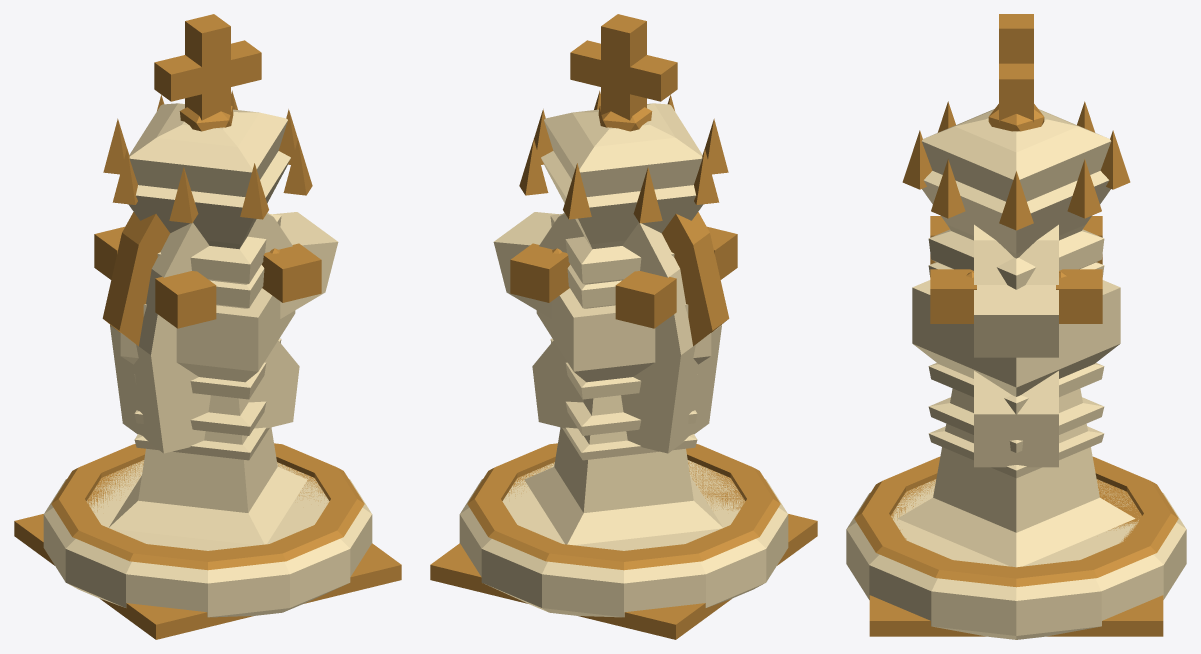
Rendered from sandstone.glb.
3 renders of one model, left to right at view 1: azimuth 30°, elevation 25°; view 2: azimuth 150°, elevation 25°; view 3: azimuth 270°, elevation 25°, orthographic. The views are drawn at different scales.
Visible parts, largest first — view 1: disc, K, N, R, B, Q, P; view 2: disc, K, N, R, B, Q, P; view 3: disc, K, N, R, Q, B, P.
Part boxes in pixels (x1,y1,x2,y2): disc: (43,443,372,617); K: (129,14,287,512); N: (102,212,338,460); R: (94,226,321,399); B: (14,246,401,639); Q: (103,90,312,308); P: (134,401,266,435); disc: (459,443,788,617); K: (544,14,702,512); N: (493,212,729,460); R: (510,226,737,399); B: (430,246,817,639); Q: (519,90,728,308); P: (565,401,697,435); disc: (846,456,1186,639); K: (921,14,1111,532); N: (928,224,1104,478); R: (912,216,1120,415); Q: (902,101,1130,276); B: (869,233,1163,636); P: (928,397,1104,452).
Bounding box in the file's own units: 0.88 × 1.58 × 0.88.
